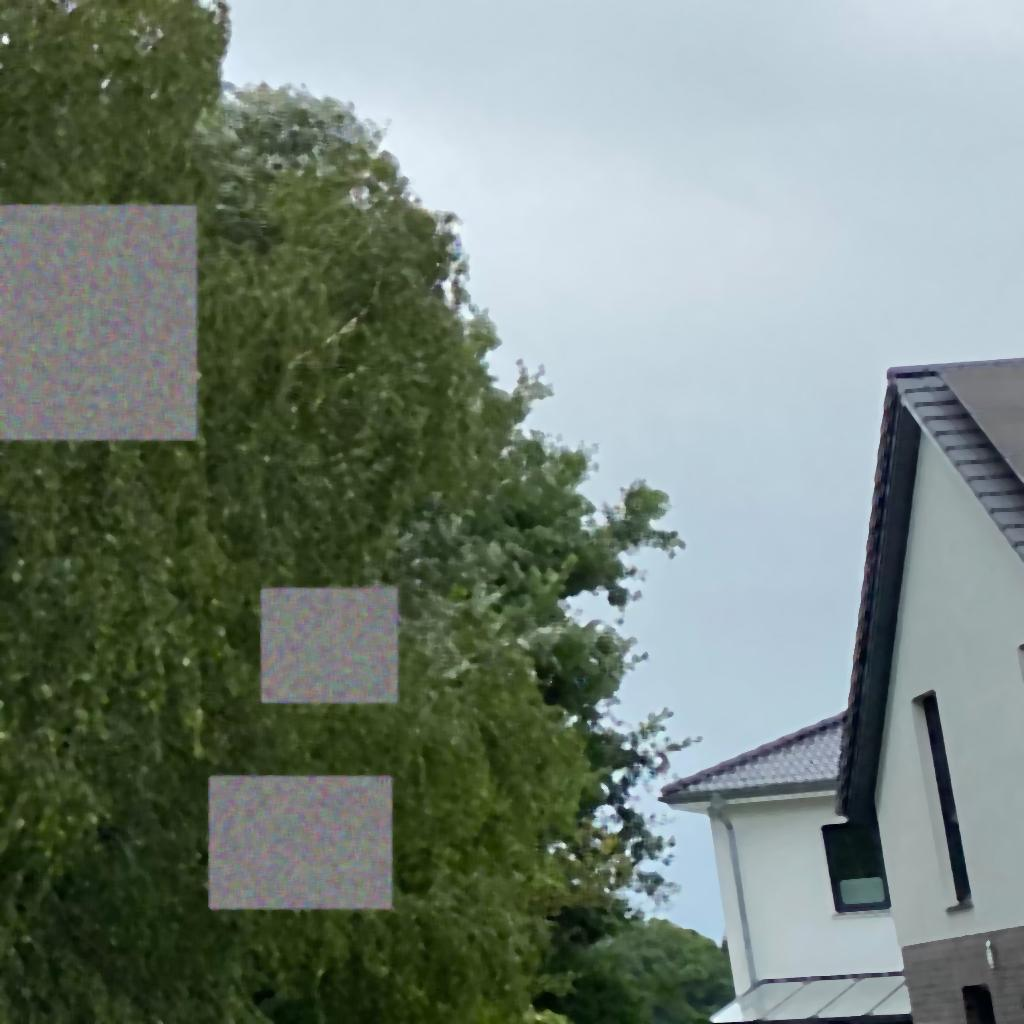tree: (1, 1, 704, 1024)
